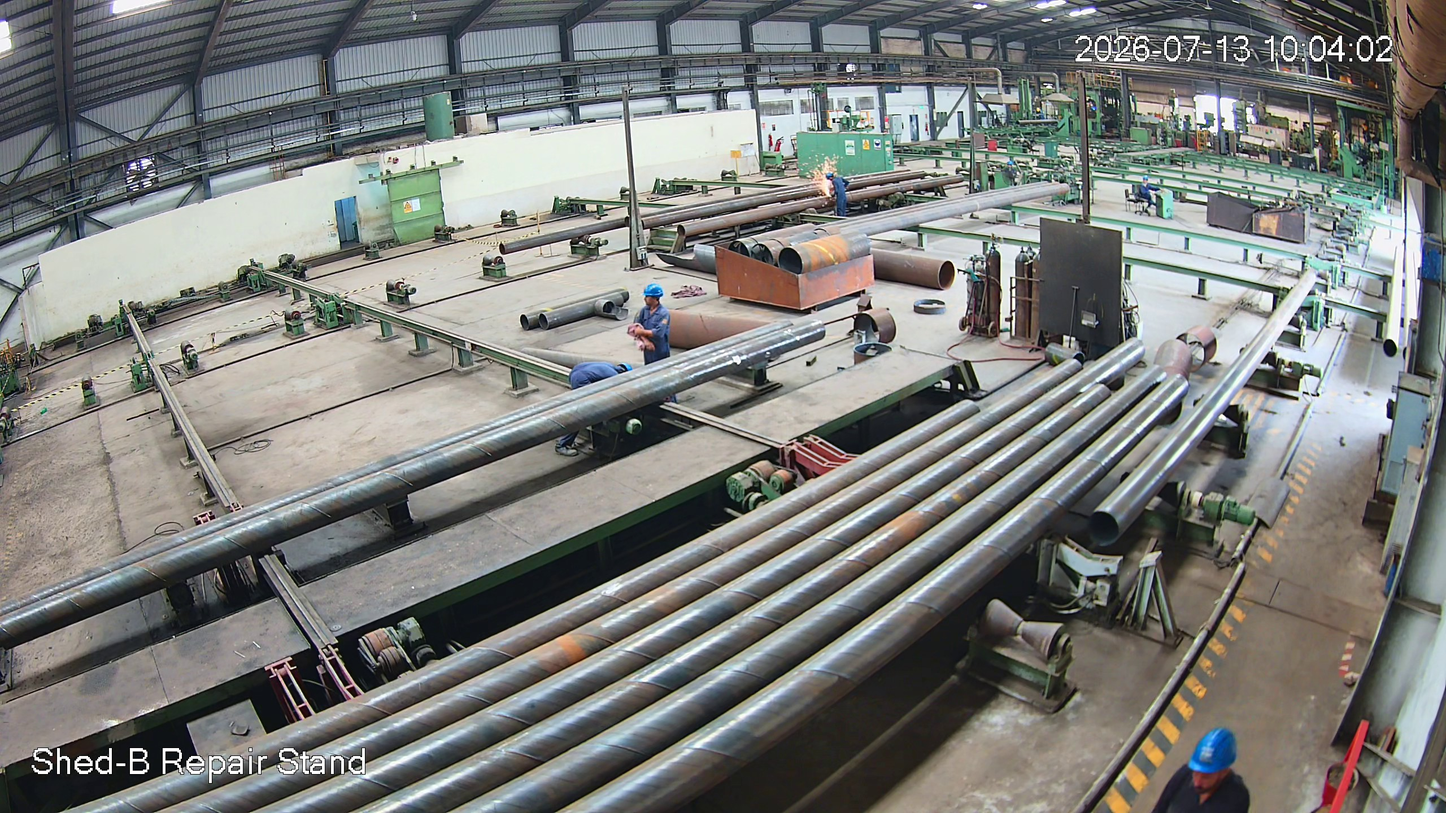Helmet: (1176, 714, 1239, 799), (640, 282, 667, 310)
Person: (1162, 721, 1250, 813), (632, 285, 674, 368)
